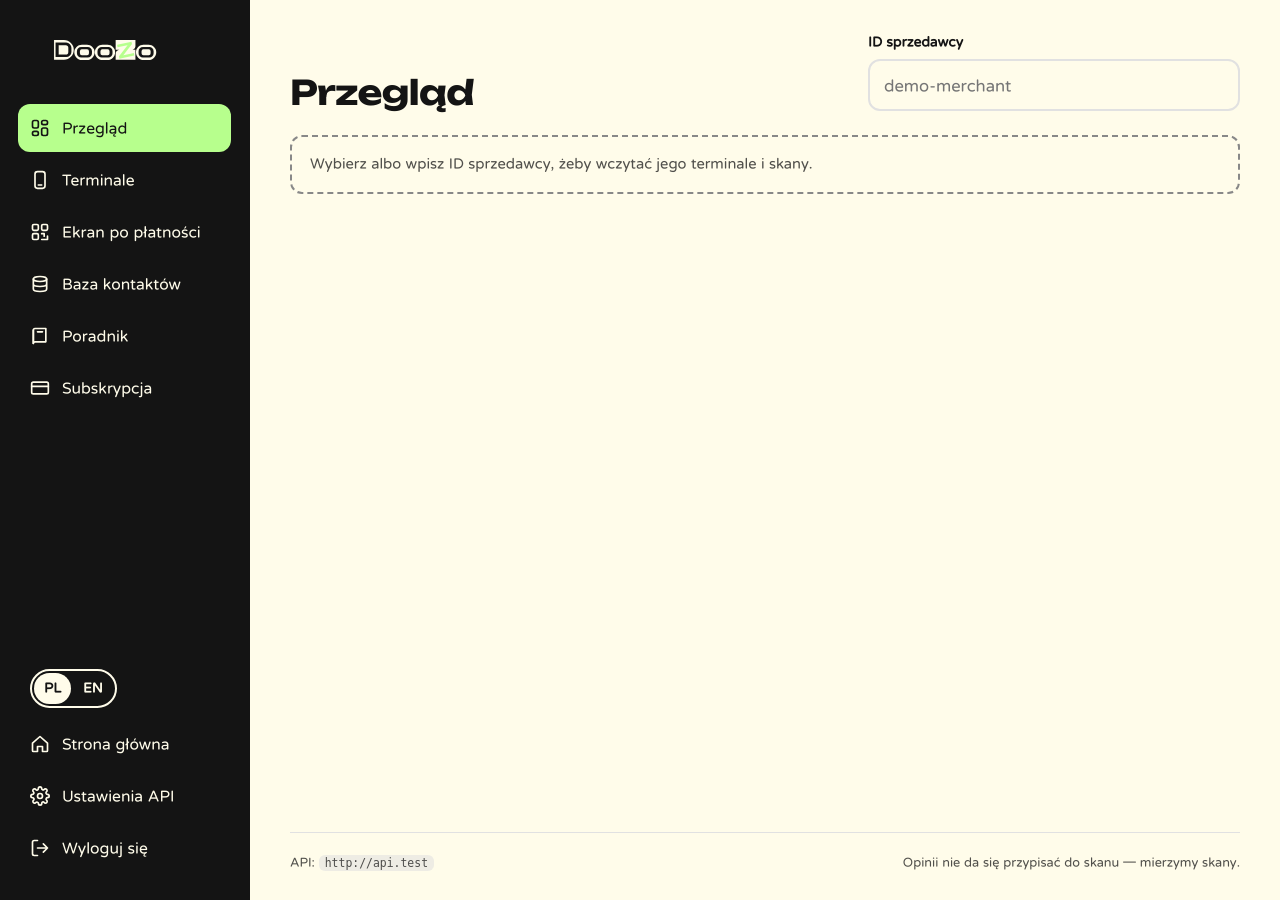
Test: language › defaults to Polish and switches to English
Expected: the button "Przegląd" is shown, [18,104,231,152]
Click the button "EN": (93, 688) [73,673,113,704]
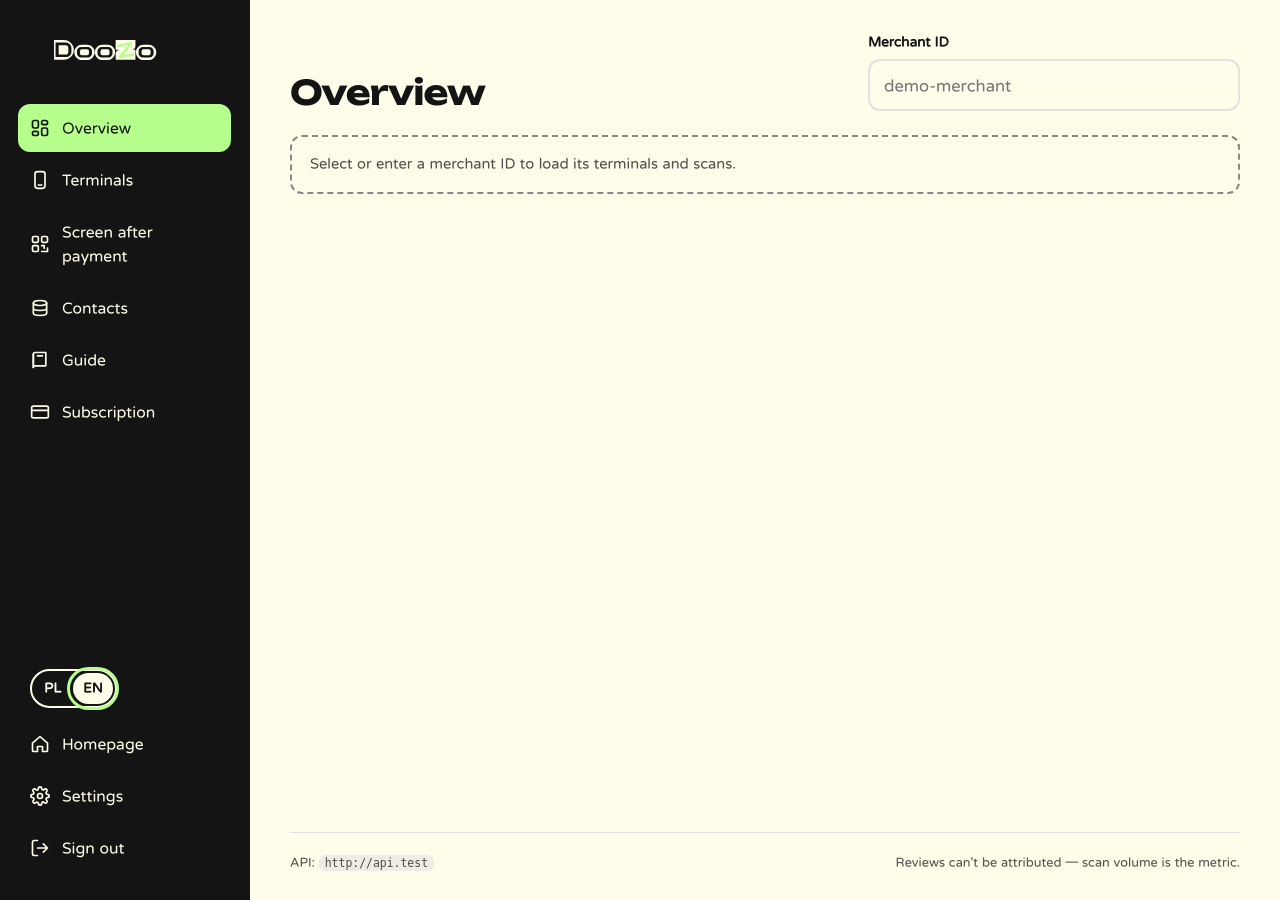
Now the button "Overview" is shown, box [18,104,231,152]
